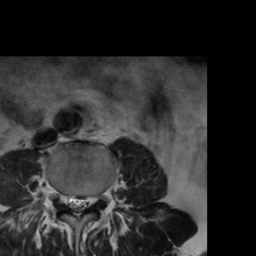CCS_normal: (73, 191, 81, 224)
LFS_normal: (90, 188, 99, 215)
LLS_normal: (81, 191, 90, 217)
RFS_normal: (57, 185, 66, 211)
RLS_normal: (65, 191, 73, 216)
